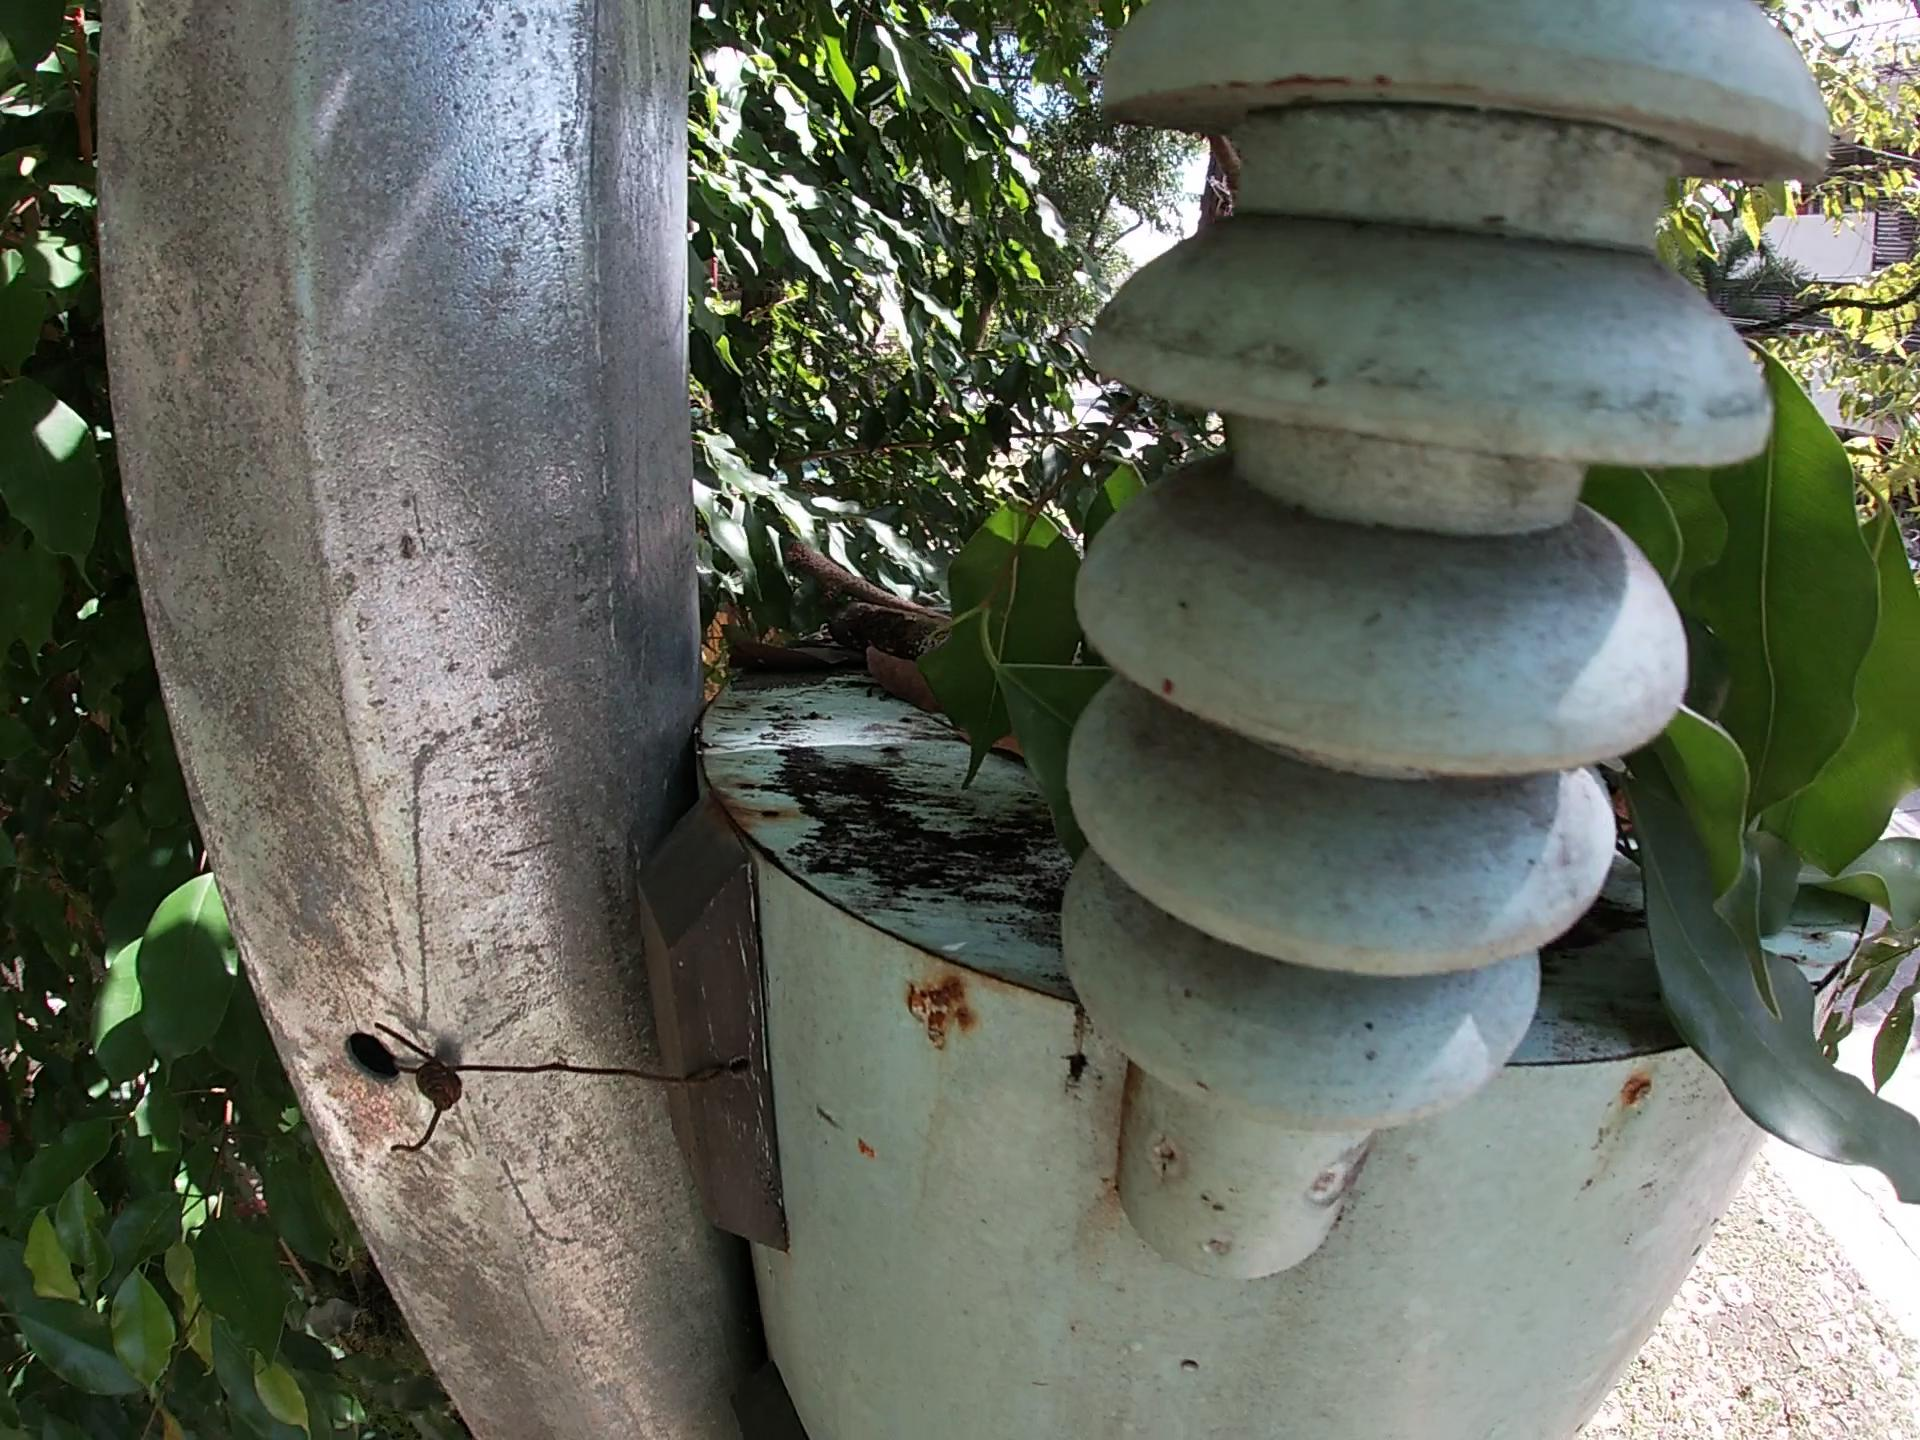branch with leaves: (1509, 250, 1908, 1219), (898, 384, 1188, 871)
leaf: (711, 628, 865, 693), (856, 634, 974, 715), (934, 718, 1034, 774)
tree branch: (788, 535, 922, 616), (816, 601, 940, 653)
